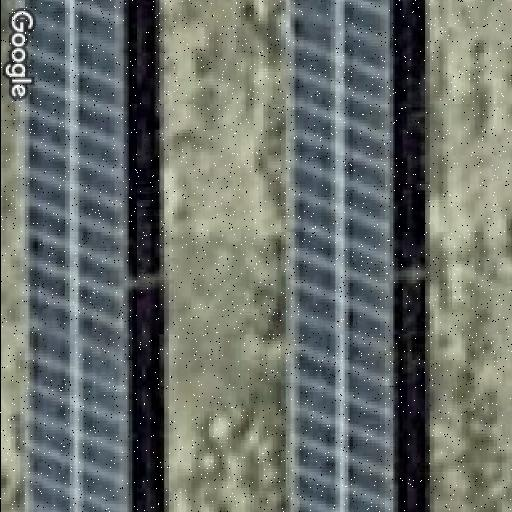solar-panel: (20, 0, 130, 512), (283, 0, 392, 512)
